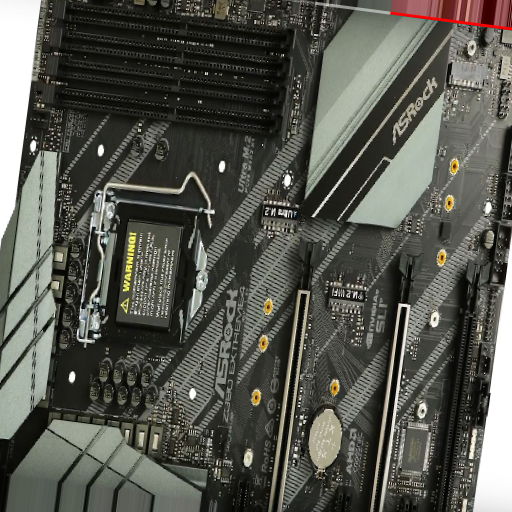CPU: (88, 195, 211, 341)
GPU: (268, 236, 326, 512), (365, 252, 426, 511), (435, 260, 492, 511)
MOTHERBOARD: (4, 1, 511, 511)
RAM: (39, 1, 296, 147)
SSD: (322, 273, 370, 317), (258, 196, 302, 235)
